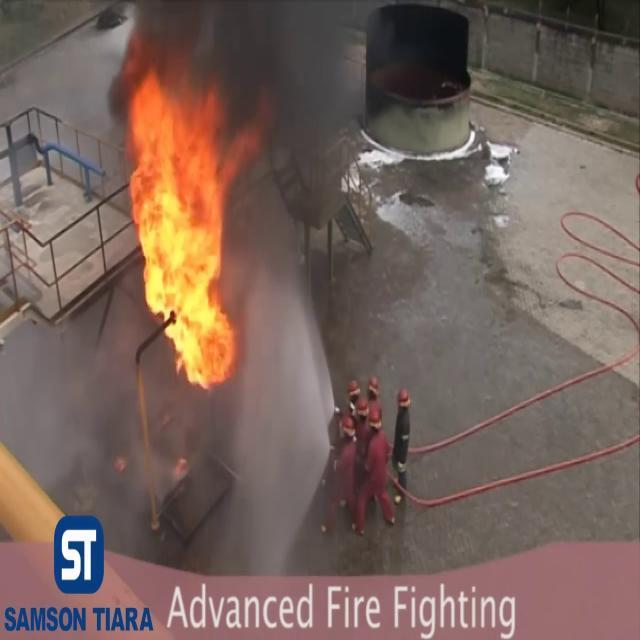Fire: (117, 61, 255, 390)
